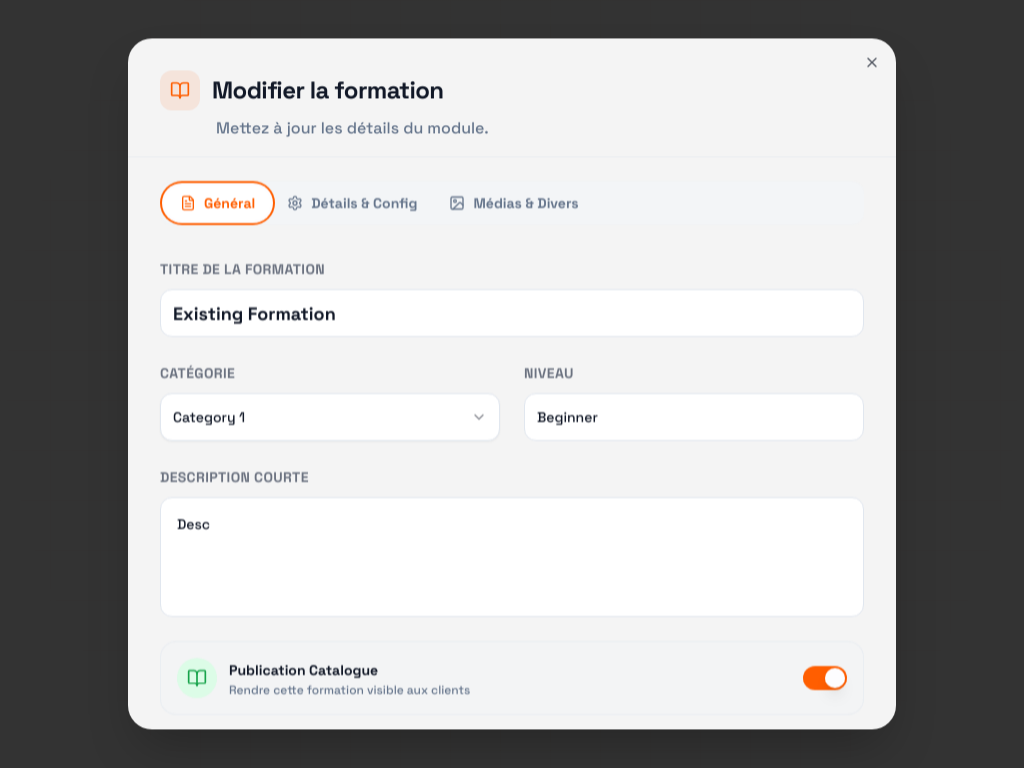
Test case: FormationDialog › populates fields when editing a formation
Check: the field showing "Existing Formation" is shown, box [160,289,864,337]
// Switch to Media tab to see imageUrl and agreement codes
Click the tab "Médias & Divers": (514, 203) [434,185,595,221]
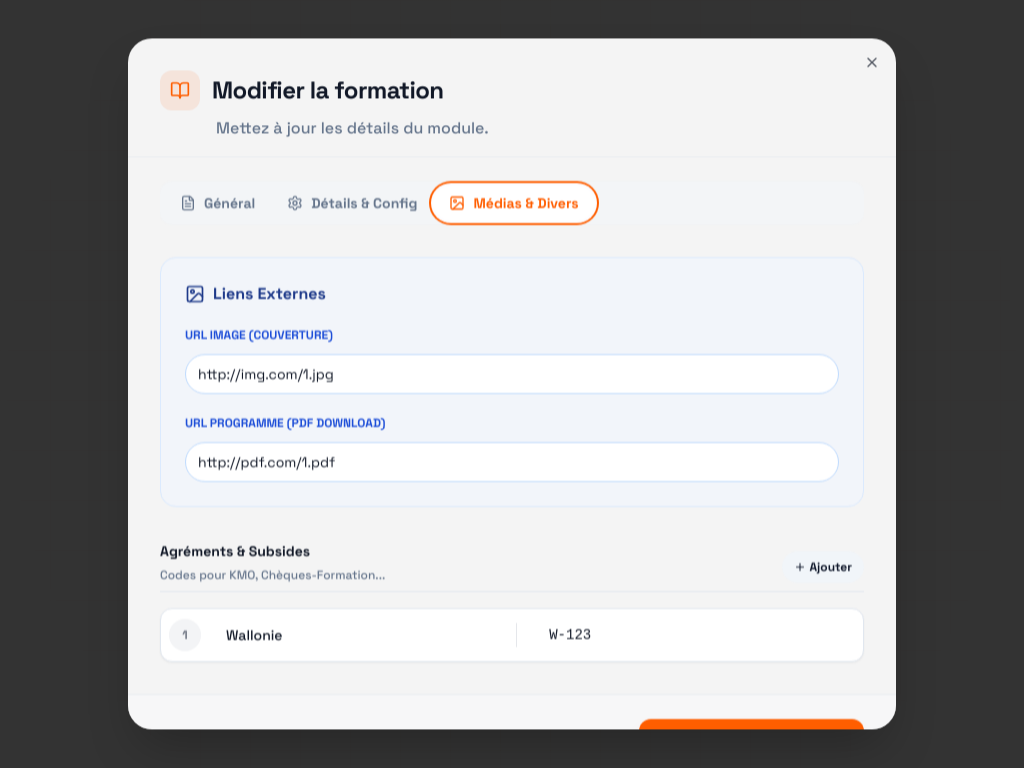
Check: the field showing "http://img.com/1.jpg" is shown, box [185,354,839,394]
Check: the 1st field showing "Wallonie" is shown, box [213,617,496,653]
Check: the 2nd field showing "W-123" is shown, box [536,617,819,653]
